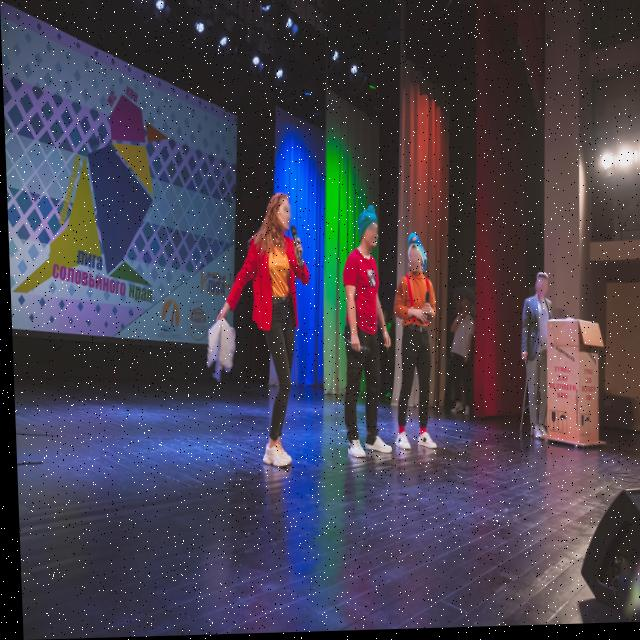Person: (240, 186, 307, 483), (381, 234, 452, 461), (338, 202, 391, 480), (518, 270, 561, 446), (441, 288, 485, 420)
